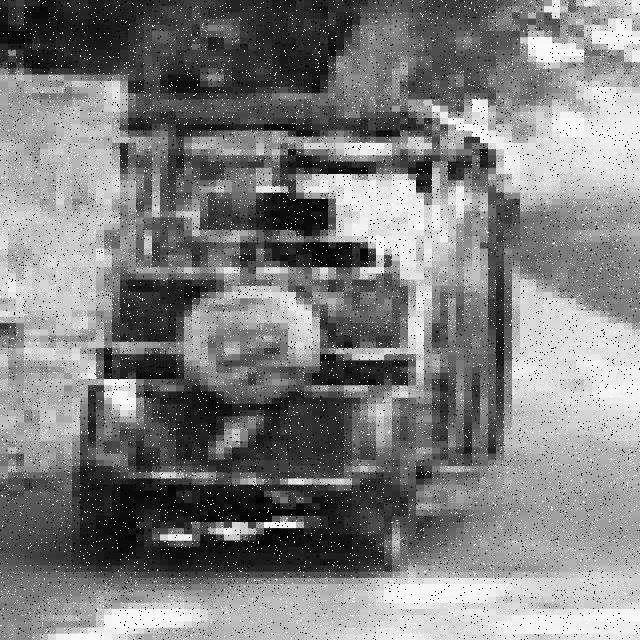Toto: (69, 92, 527, 586)
